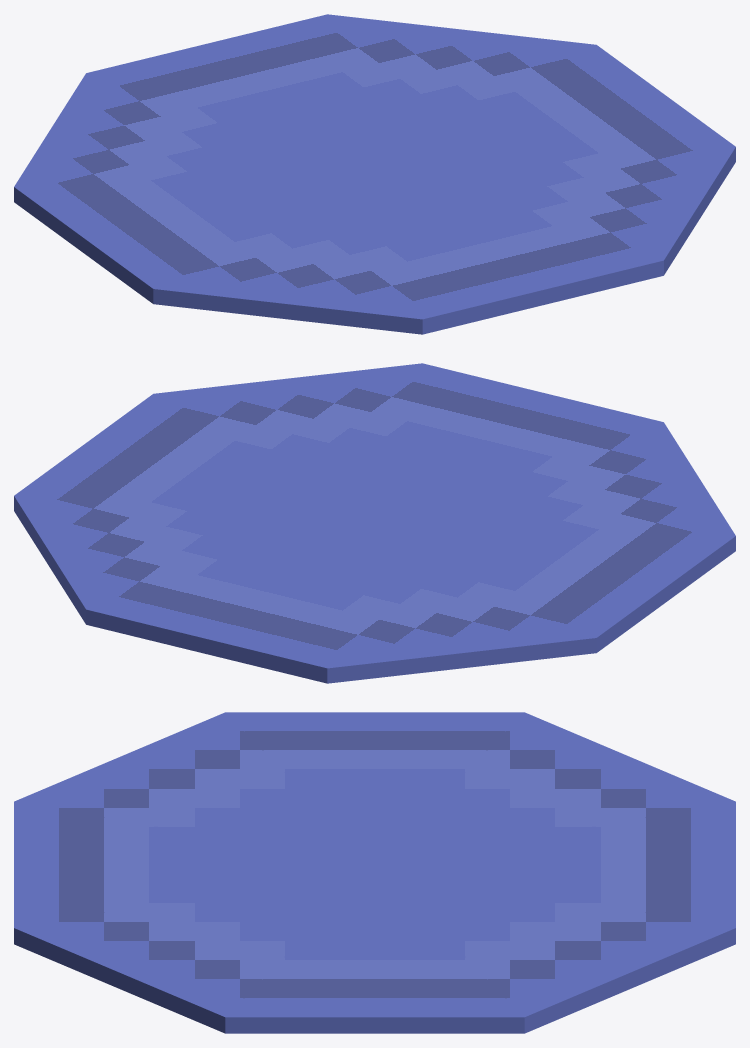
The model's file is circle rug.fbx.
3 renders of one model, top to bottom at view 1: azimuth 30°, elevation 25°; view 2: azimuth 150°, elevation 25°; view 3: azimuth 270°, elevation 25°, orthographic. The views are drawn at different scales.
Parts seen in each view (by area): view 1: cylinder; view 2: cylinder; view 3: cylinder.
Boxes of the visible parts, box(x1,y1,x2,y2) form: cylinder: box(14, 14, 735, 334); cylinder: box(14, 363, 735, 683); cylinder: box(14, 712, 735, 1033).
Bounding box in the file's own units: 50 × 1.25 × 50.
1 material, 1 textured.
